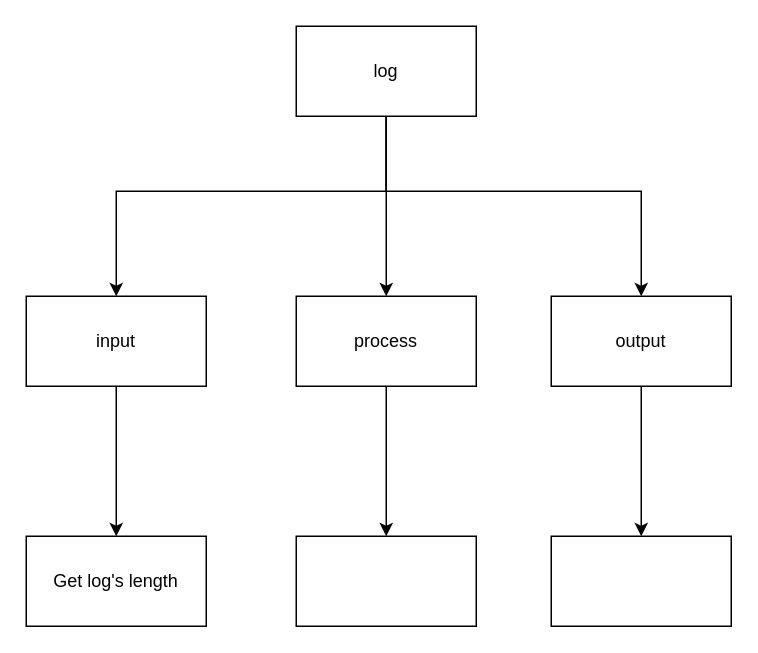
Some shapes in this 758 by 653 pixel diagram are drawn without their labels. Here are the shapes that lost their labels. From the top down, the centre of each, then its label:
the point at 385,580: Get number of 110/(20*length)
the point at 640,580: Get number of log's length
